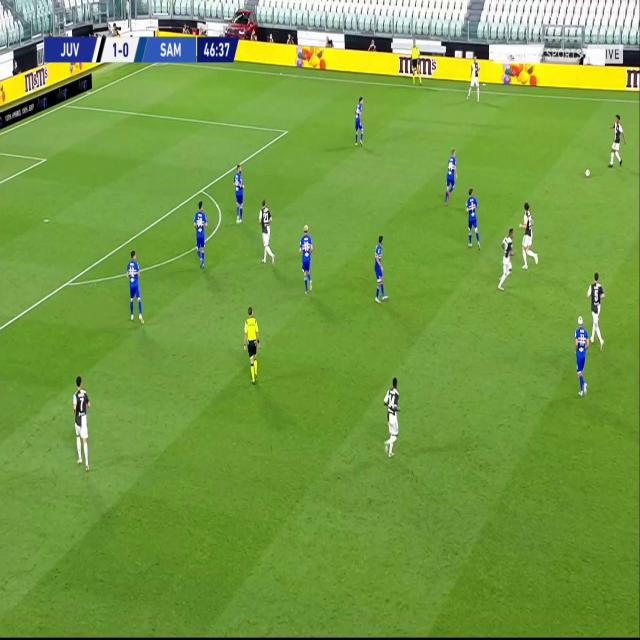ball: (584, 165, 591, 178)
player: (70, 373, 92, 470), (381, 373, 402, 458), (586, 268, 606, 349), (517, 200, 539, 271), (125, 246, 145, 324), (572, 312, 590, 398), (243, 304, 261, 384), (497, 226, 516, 292), (192, 198, 209, 270), (257, 199, 275, 266), (372, 231, 388, 304), (298, 222, 314, 295), (464, 186, 481, 249), (608, 112, 626, 169), (443, 147, 457, 206), (232, 163, 245, 222), (467, 52, 481, 102), (352, 94, 364, 147), (409, 38, 422, 86)
